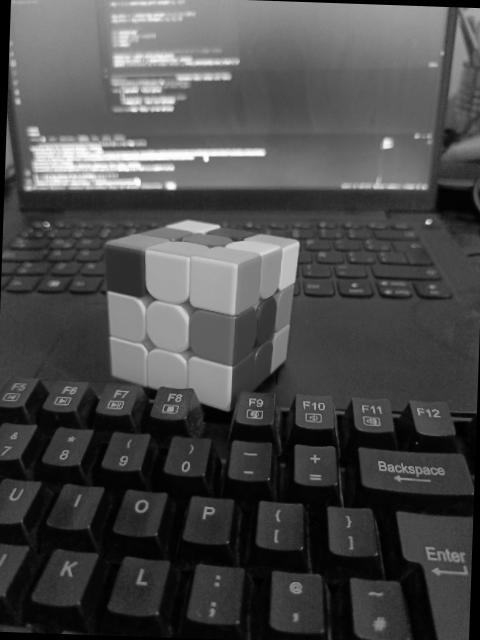rubik: (98, 216, 300, 413)
